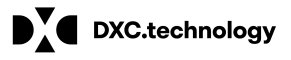DXC: (12, 6, 276, 52)
